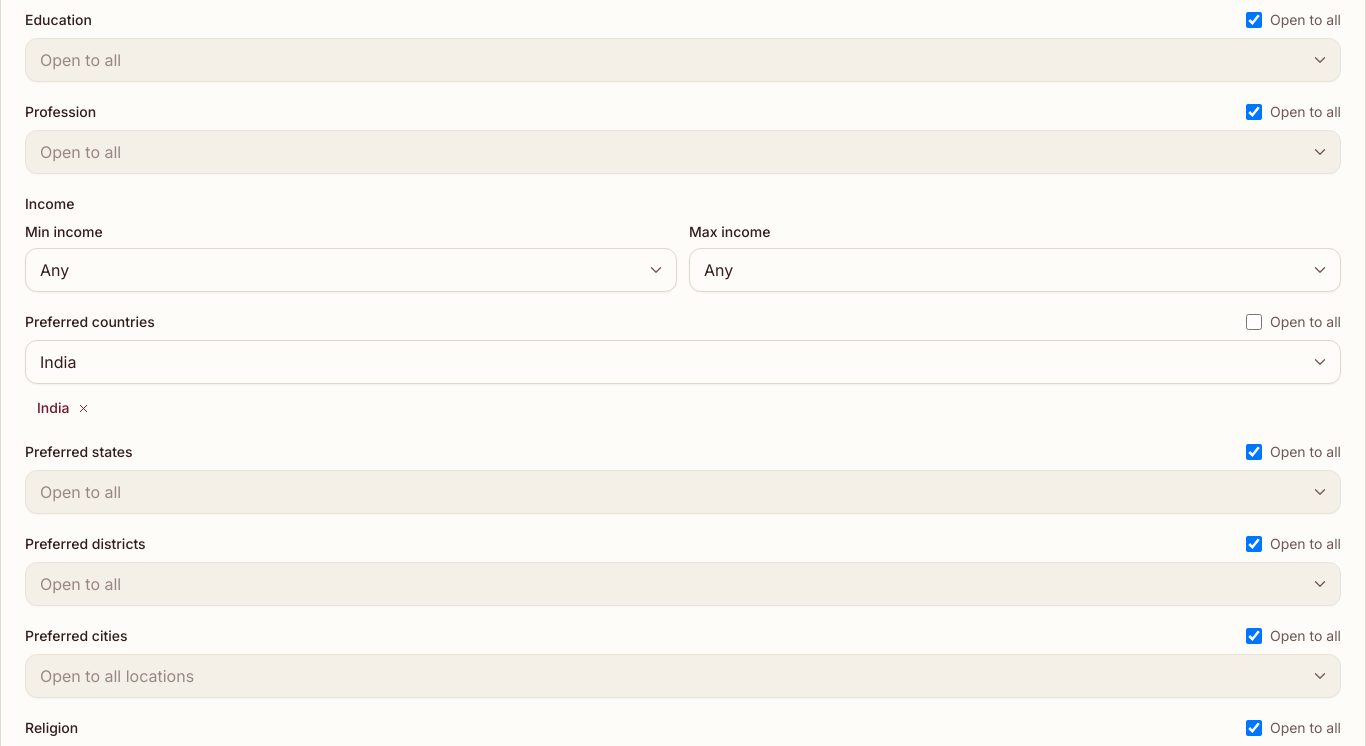
Scenario: PreferencesView — single card + weight › Country renders as a searchable multi-select dropdown: open, filter, pick multiple, close, restore
The image size is (1366, 746).
Later steps or results of the test are not shown.
(page scrolled)
Check: the button named "remove india" is shown, box [73,398,93,418]
Click the dropdown named "Preferred countries".
click(58, 362)  # box [25,340,1341,384]
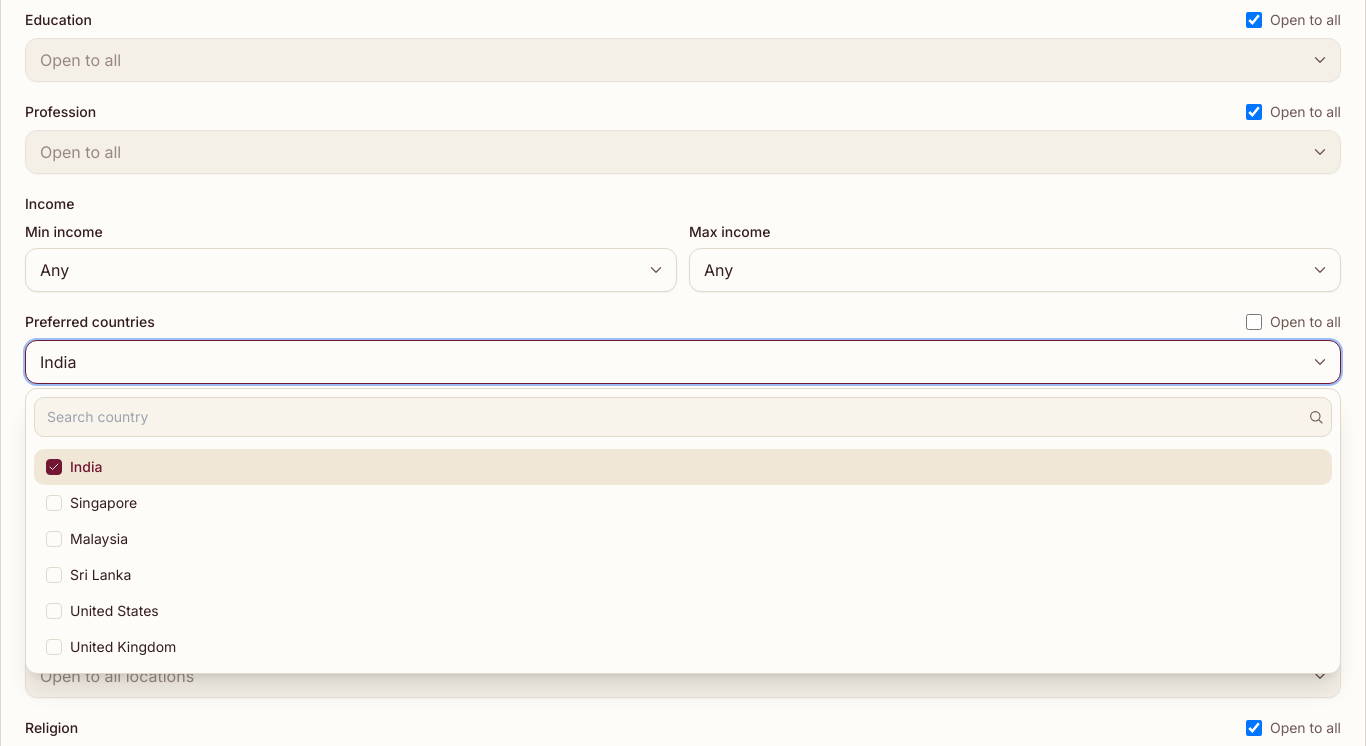
Check: the dropdown named "Preferred countries" is expanded, box [25,340,1341,384]
Type "united" into the search field.
click(683, 417); type("united")  # box [34,397,1332,437]
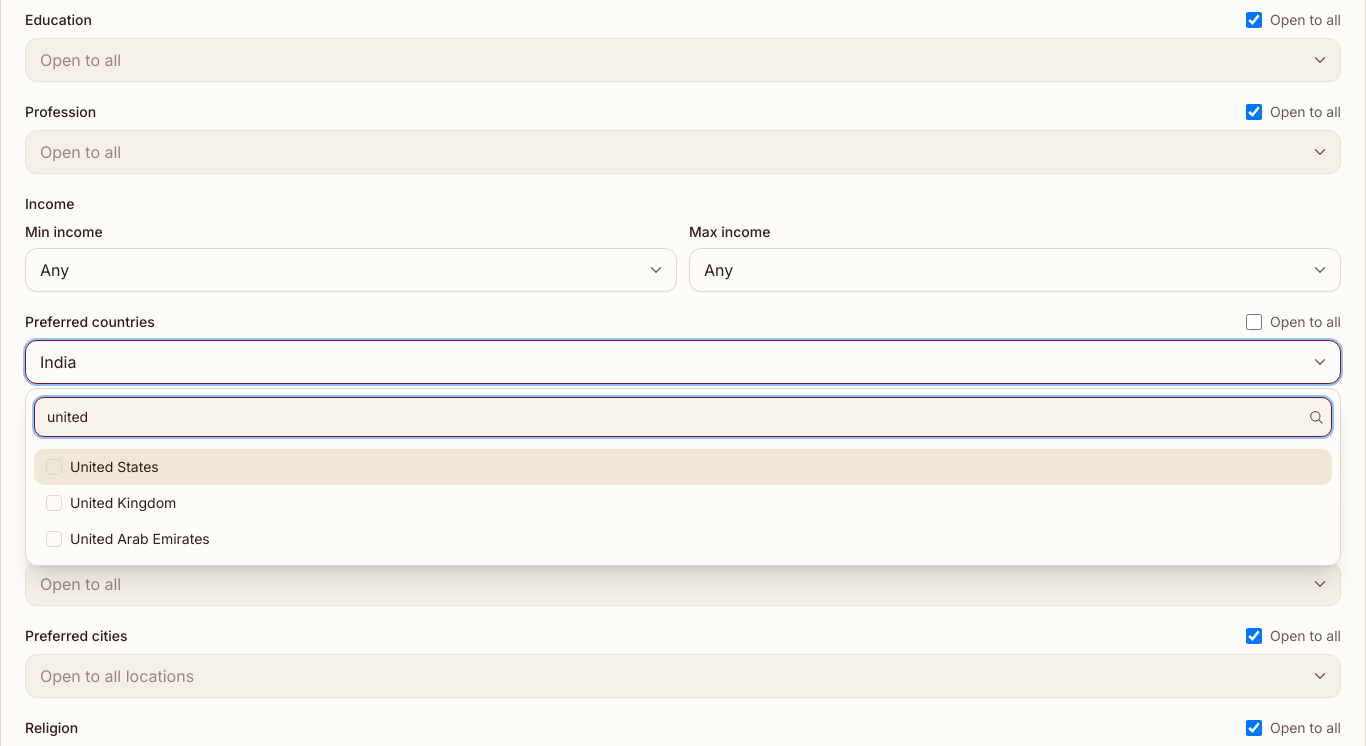
Check: the option "United States" is shown
Click the option "United States".
click(114, 466)  # box [34,449,1332,485]
(page scrolled)
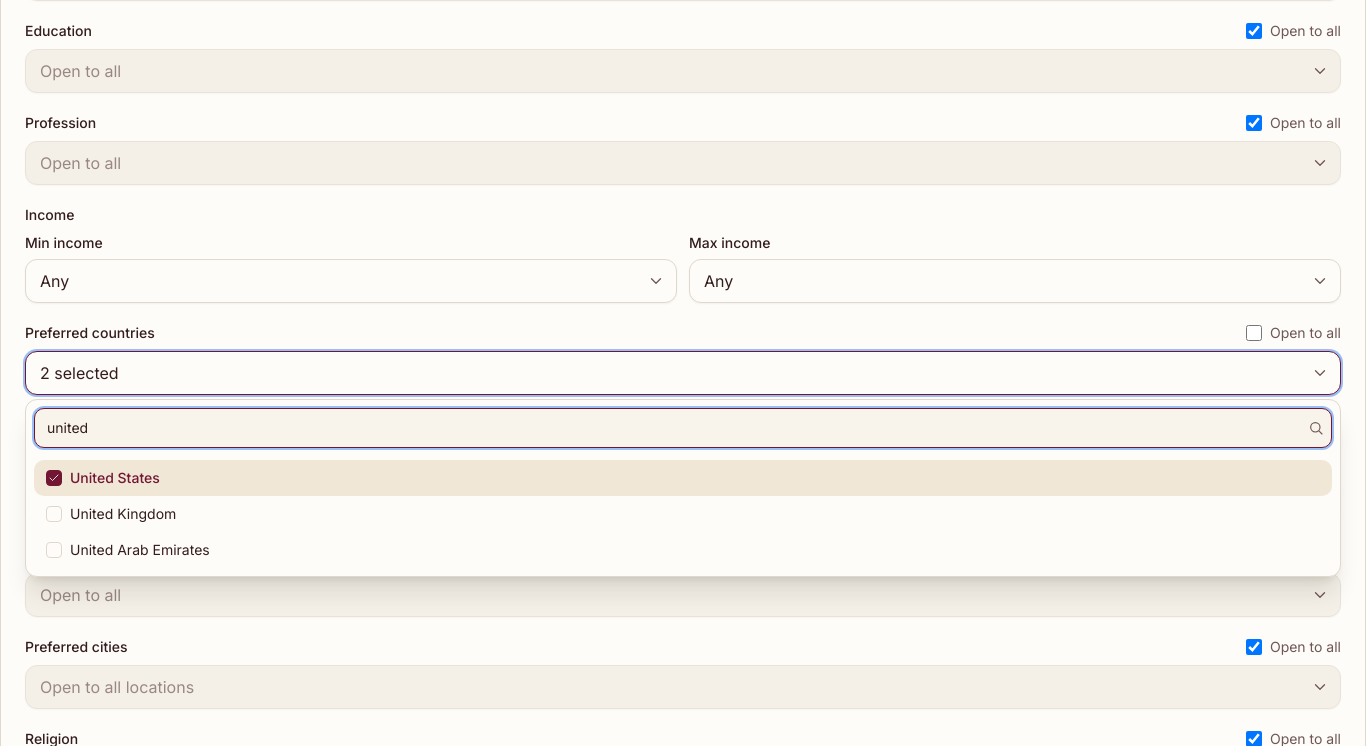
Check: the list "United States United Kingdom United Arab Emirates" is shown, box [30,456,1336,572]
